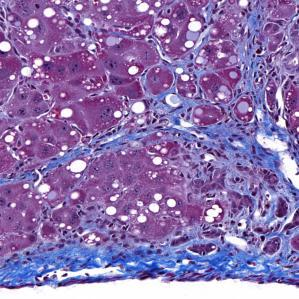fibrosis: (135, 67, 272, 150), (174, 219, 293, 281), (27, 226, 139, 283), (205, 158, 299, 217)
